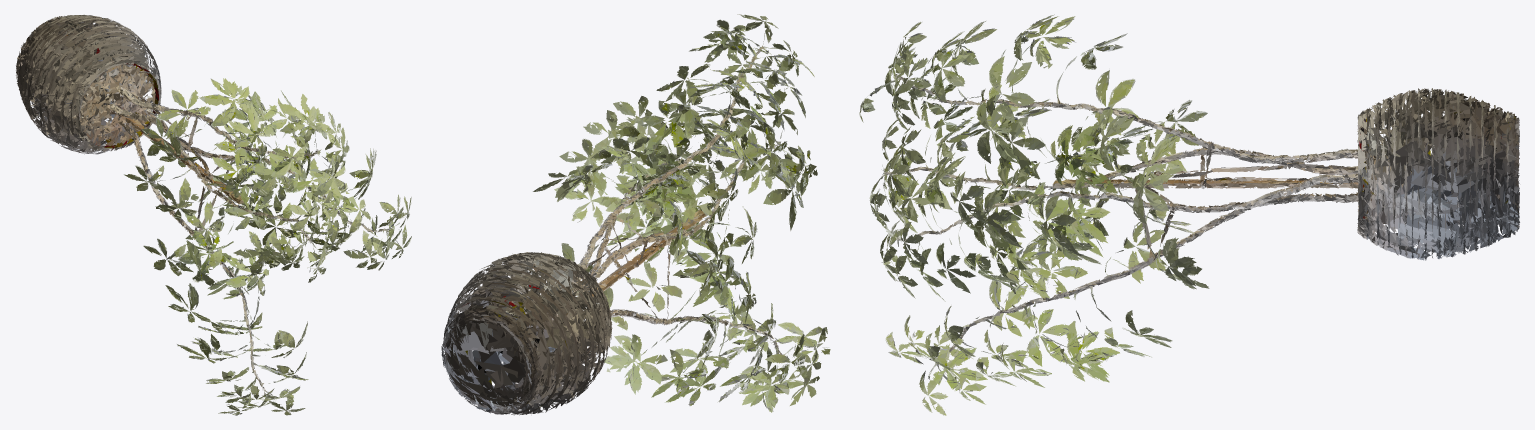
File: 2dts.glb
3 renders of one model, left to right at view 1: azimuth 30°, elevation 25°; view 2: azimuth 150°, elevation 25°; view 3: azimuth 270°, elevation 25°, orthographic. The views are drawn at different scales.
Visible parts, largest first — view 1: world; view 2: world; view 3: world.
Boxes of the visible parts, x1,y1,x2,y2 form: world: (16,14,411,415); world: (441,14,830,415); world: (859,14,1519,415).
Size of the model in its own units: 0.933 by 1.43 by 2.18.
